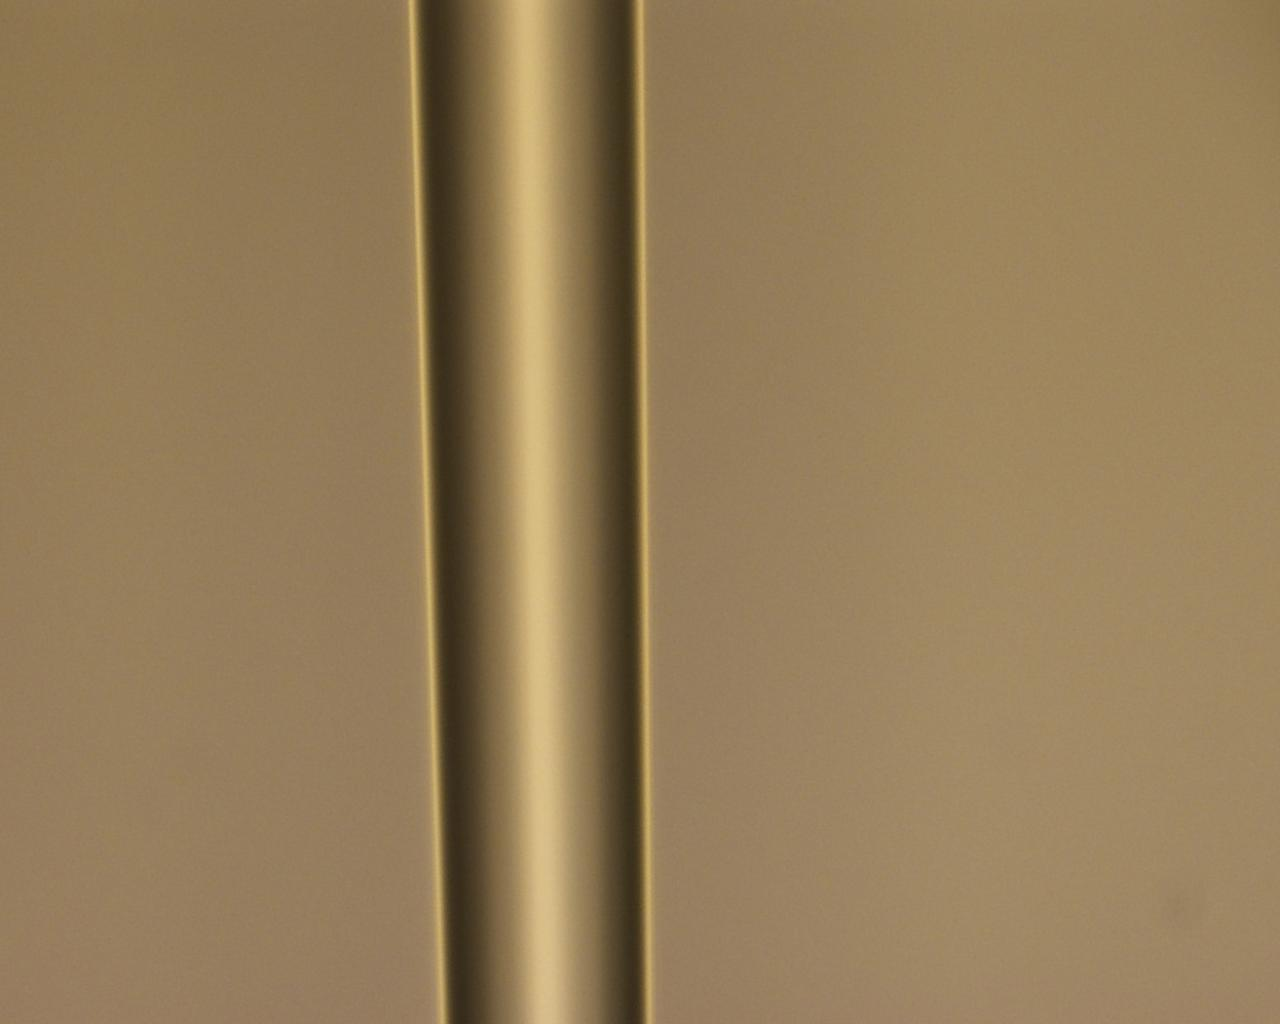fiber: (0, 657, 294, 952), (1198, 573, 1280, 1024)
